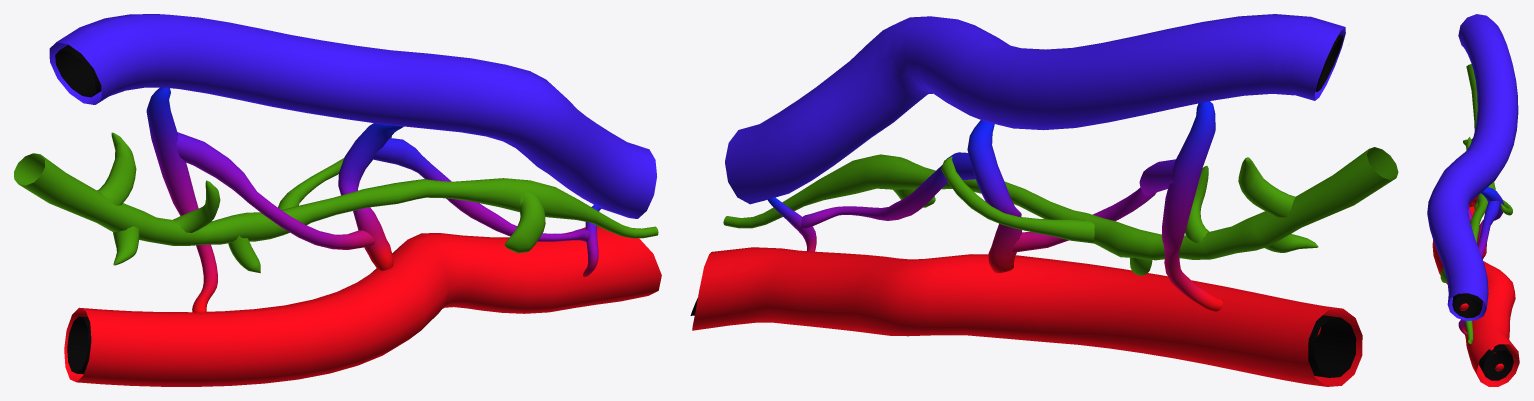
Rendered from sangelesilimfa.glb.
3 views of the same model, side by side, from view 1: azimuth 30°, elevation 25°; view 2: azimuth 150°, elevation 25°; view 3: azimuth 270°, elevation 25° (orthographic). The views are drawn at different scales.
Parts seen in each view (by area): view 1: Top Vein, Bottom Vein, Limfa, Connecting Veins; view 2: Bottom Vein, Top Vein, Limfa, Connecting Veins; view 3: Top Vein, Bottom Vein, Limfa, Connecting Veins.
Boxes of the visible parts, x1,y1,x2,y2 form: Top Vein: (49, 14, 656, 218); Bottom Vein: (64, 226, 661, 386); Limfa: (14, 132, 658, 273); Connecting Veins: (146, 87, 600, 312); Bottom Vein: (690, 247, 1362, 386); Top Vein: (725, 14, 1345, 204); Limfa: (723, 147, 1398, 275); Connecting Veins: (767, 101, 1224, 311); Top Vein: (1427, 14, 1518, 320); Bottom Vein: (1432, 206, 1519, 386); Limfa: (1440, 64, 1512, 343); Connecting Veins: (1458, 187, 1504, 335).
Bounding box in the file's own units: 5.15 × 3.14 × 1.19.
5 materials, 1 textured.
